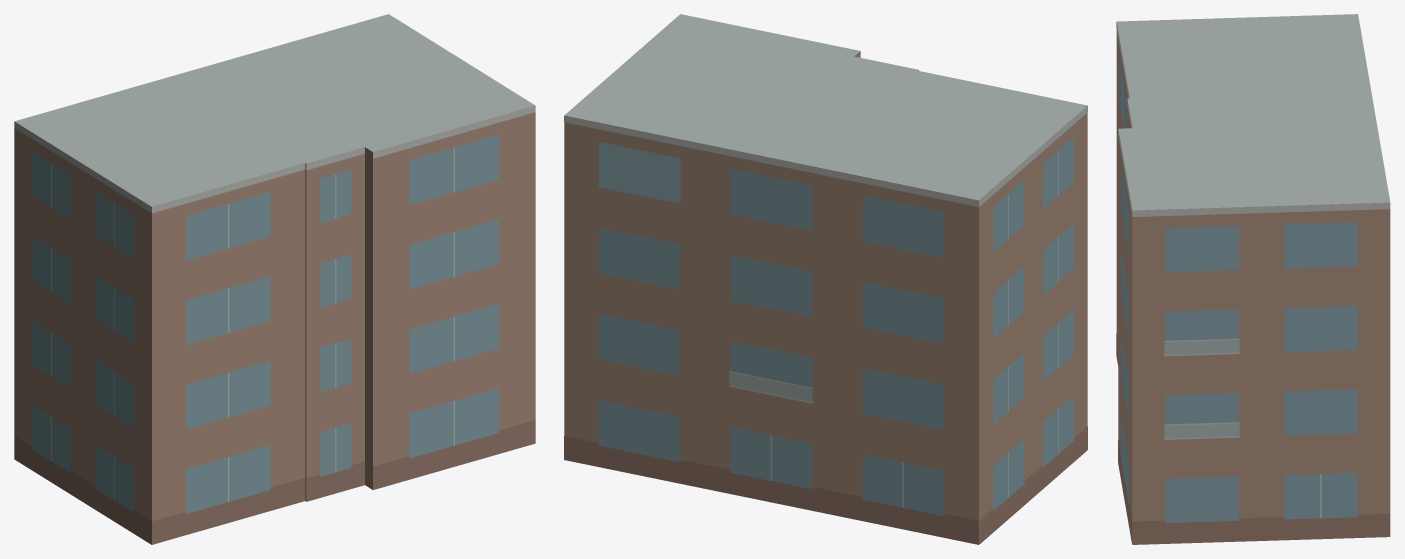
File: survey-upis-32778835.glb
3 renders of one model, left to right at view 1: azimuth 30°, elevation 25°; view 2: azimuth 150°, elevation 25°; view 3: azimuth 270°, elevation 25°, orthographic. The views are drawn at different scales.
Visible parts, largest first — view 1: survey-upis-32778835.tmp; view 2: survey-upis-32778835.tmp; view 3: survey-upis-32778835.tmp.
Boxes of the visible parts, x1,y1,x2,y2 form: survey-upis-32778835.tmp: (14, 14, 535, 544); survey-upis-32778835.tmp: (564, 14, 1087, 544); survey-upis-32778835.tmp: (1116, 14, 1390, 544).
Size of the model in its own units: 15.77 by 12.5 by 9.29.
